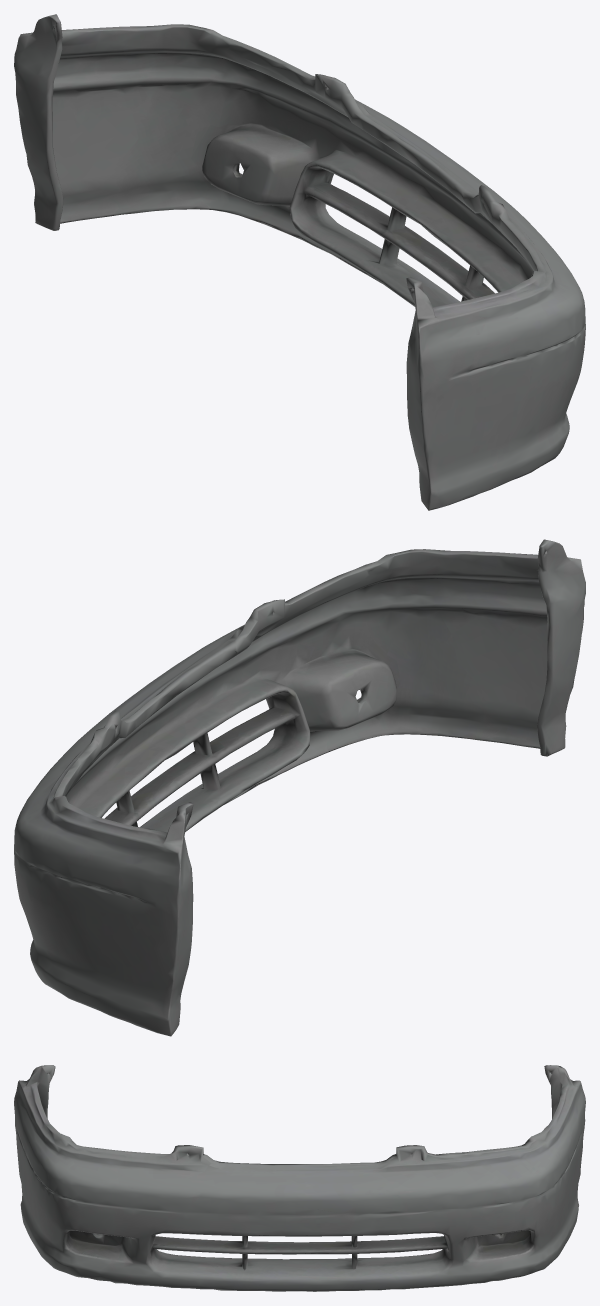
The model's file is front-bumper-support.glb.
3 views of the same model, one above another, from view 1: azimuth 30°, elevation 25°; view 2: azimuth 150°, elevation 25°; view 3: azimuth 270°, elevation 25° (orthographic). The views are drawn at different scales.
Visible parts, largest first — view 1: tripo_node_d6849747-5c8b-4dc3-8d47-440a2110f4ef; view 2: tripo_node_d6849747-5c8b-4dc3-8d47-440a2110f4ef; view 3: tripo_node_d6849747-5c8b-4dc3-8d47-440a2110f4ef.
Part boxes in pixels (x1,y1,x2,y2): tripo_node_d6849747-5c8b-4dc3-8d47-440a2110f4ef: (14, 14, 585, 510); tripo_node_d6849747-5c8b-4dc3-8d47-440a2110f4ef: (14, 539, 585, 1036); tripo_node_d6849747-5c8b-4dc3-8d47-440a2110f4ef: (14, 1065, 585, 1291).
Size of the model in its own units: 0.3532 by 0.2966 by 1.
Materials: 1 (1 with a texture image).
